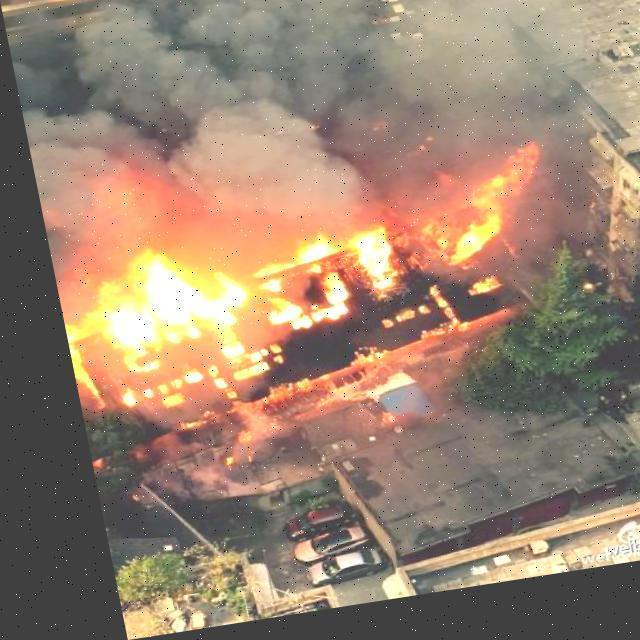Fire: (38, 162, 555, 414)
